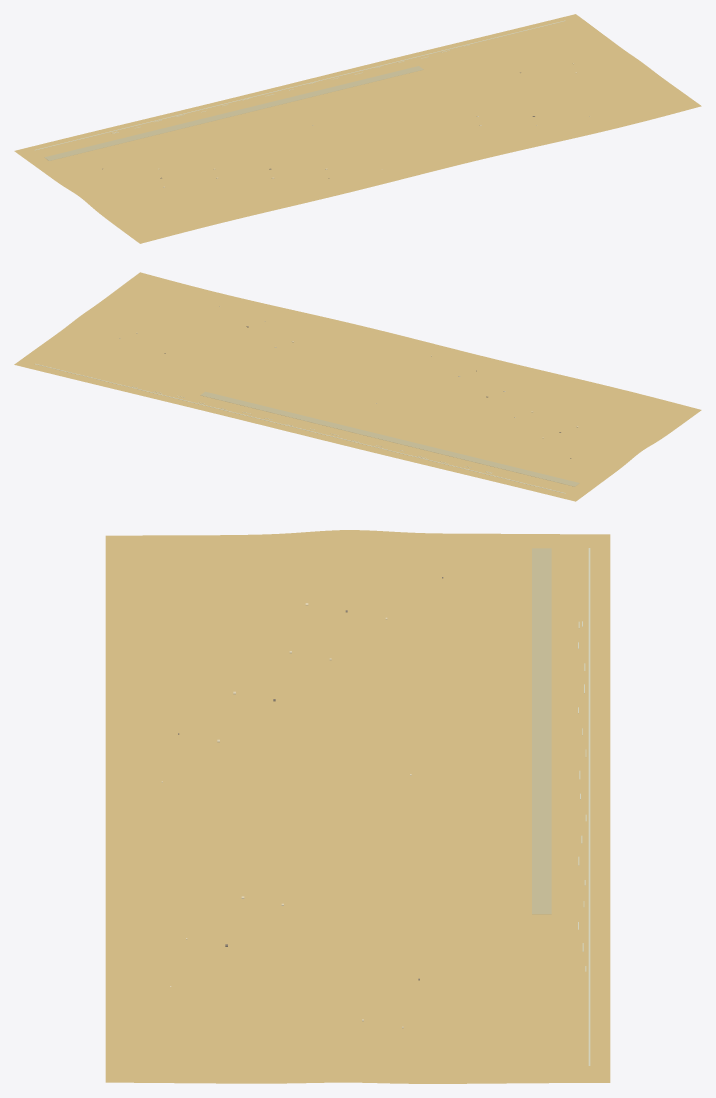
Rendered from paradise-shoreline.glb.
3 renders of one model, top to bottom at view 1: azimuth 30°, elevation 25°; view 2: azimuth 150°, elevation 25°; view 3: azimuth 270°, elevation 25°, orthographic. The views are drawn at different scales.
Visible parts, largest first — view 1: paradise-shoreline-authored-glb; view 2: paradise-shoreline-authored-glb; view 3: paradise-shoreline-authored-glb.
Boxes of the visible parts, bbox=[...] form: paradise-shoreline-authored-glb: bbox=[14, 14, 701, 243]; paradise-shoreline-authored-glb: bbox=[14, 272, 701, 501]; paradise-shoreline-authored-glb: bbox=[105, 530, 610, 1083].
Bounding box in the file's own units: 72 × 0.595 × 28.
